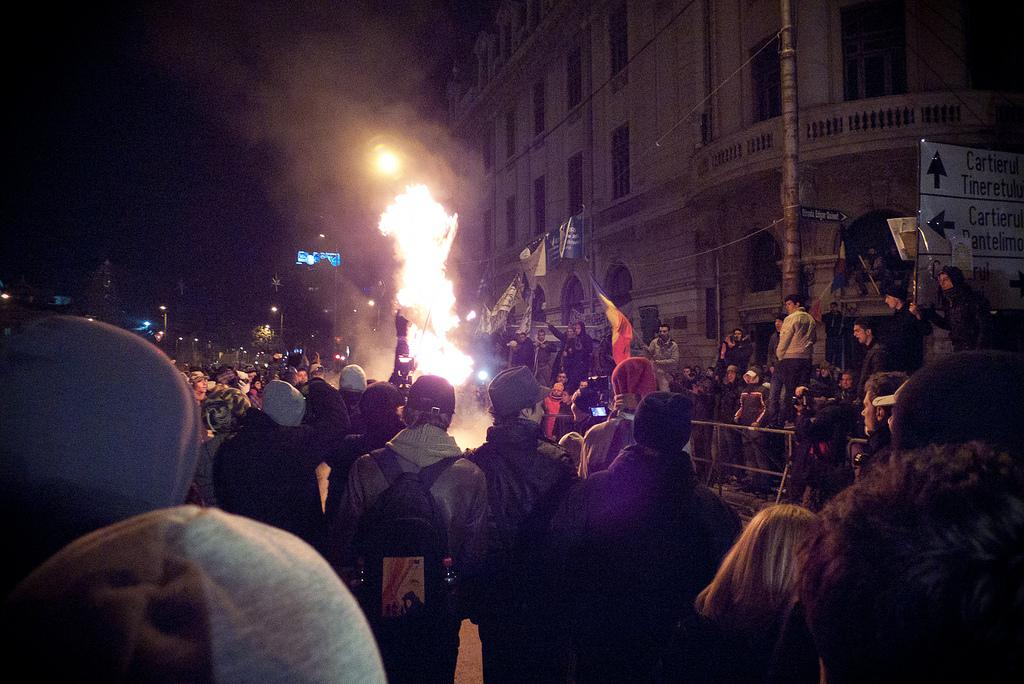fire: (382, 192, 475, 385)
